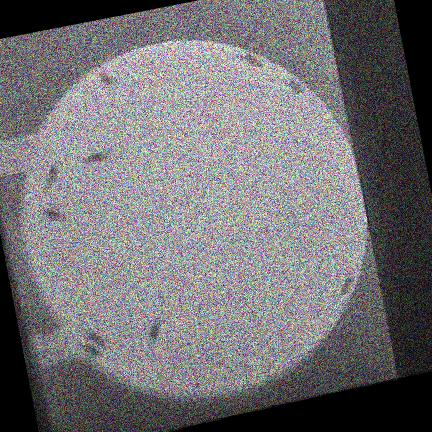fly: (45, 164, 59, 193), (241, 52, 265, 68), (79, 343, 101, 359), (41, 208, 68, 221), (84, 151, 110, 164), (148, 319, 161, 345), (285, 78, 304, 94), (89, 332, 106, 348), (341, 275, 354, 294), (99, 73, 115, 86)
